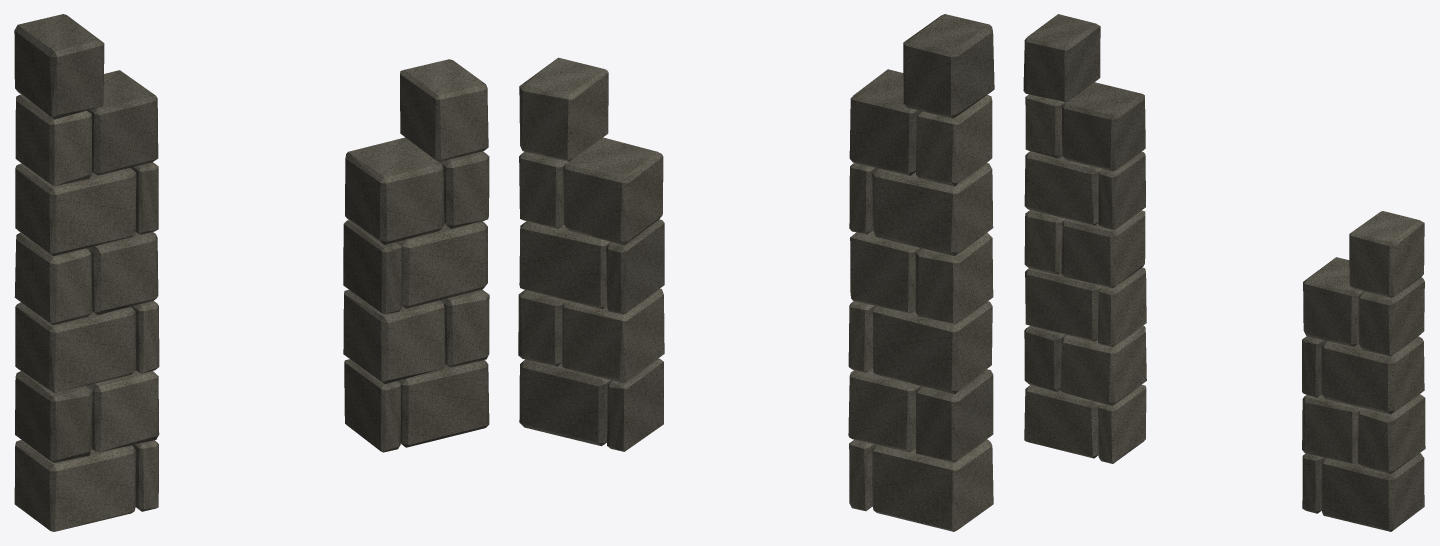
The model's file is env_ruin_walls_13_jagged_breach.glb.
3 renders of one model, left to right at view 1: azimuth 30°, elevation 25°; view 2: azimuth 150°, elevation 25°; view 3: azimuth 330°, elevation 25°, orthographic. The views are drawn at different scales.
Size of the model in its own units: 1.99 by 2.09 by 0.3264.
1 material, 1 textured.
